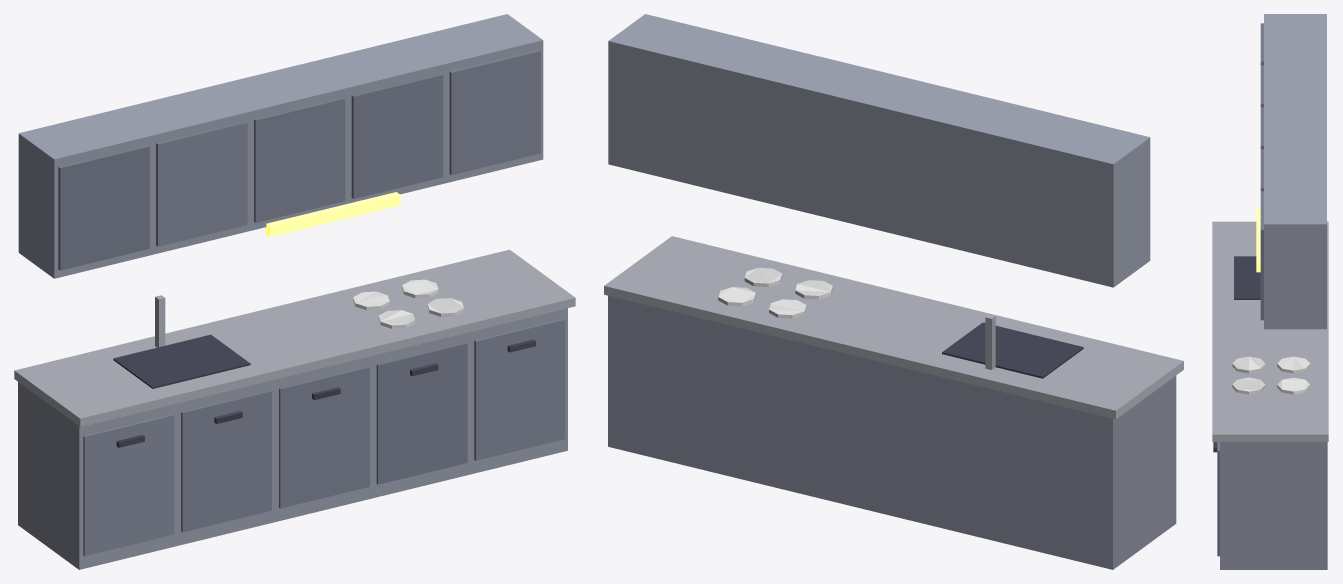
File: Kitchen_Counter.fbx
3 renders of one model, left to right at view 1: azimuth 30°, elevation 25°; view 2: azimuth 150°, elevation 25°; view 3: azimuth 270°, elevation 25°, orthographic. The views are drawn at different scales.
Parts seen in each view (by area): view 1: Kitchen_Counter; view 2: Kitchen_Counter; view 3: Kitchen_Counter.
Boxes of the visible parts, bbox=[...] form: Kitchen_Counter: bbox=[14, 14, 575, 569]; Kitchen_Counter: bbox=[604, 14, 1183, 569]; Kitchen_Counter: bbox=[1212, 14, 1328, 569].
Bounding box in the file's own units: 3.04 × 2.3 × 0.7.
